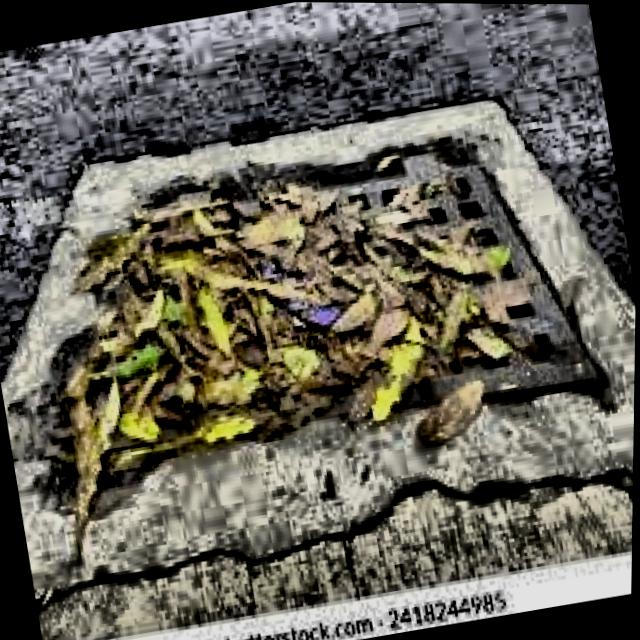clogged_drains: (52, 146, 599, 549)
